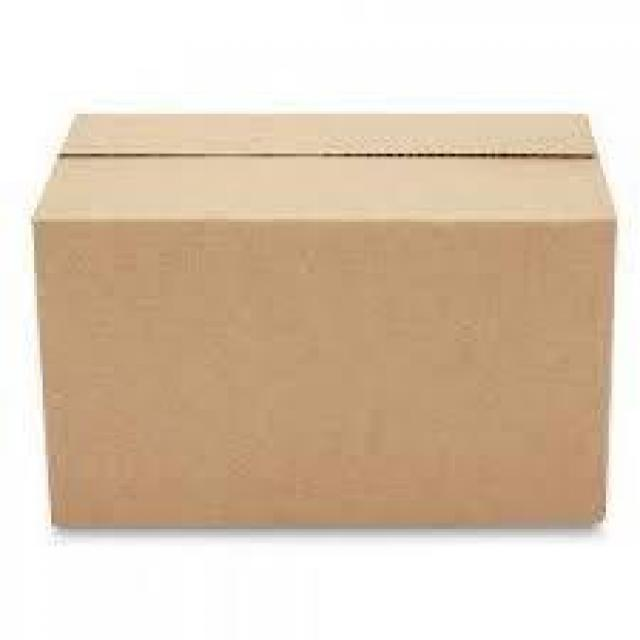box: (25, 113, 622, 538)
